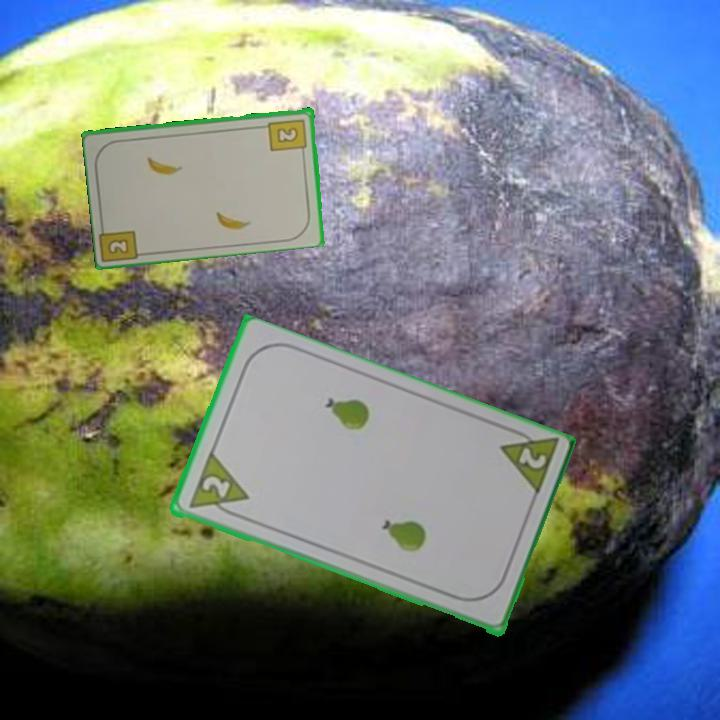2b: (265, 115, 310, 157), (104, 235, 132, 257)
2p: (495, 422, 561, 501), (184, 451, 251, 523)
